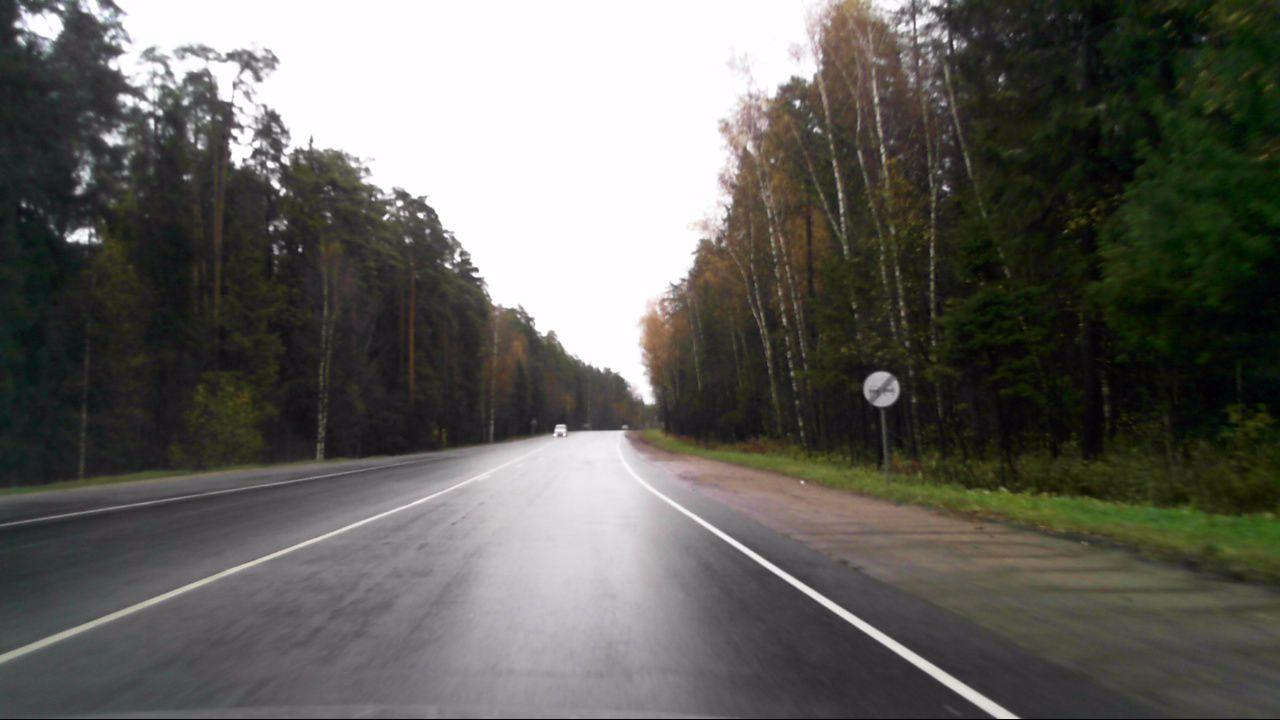3_21: (861, 369, 900, 407)
